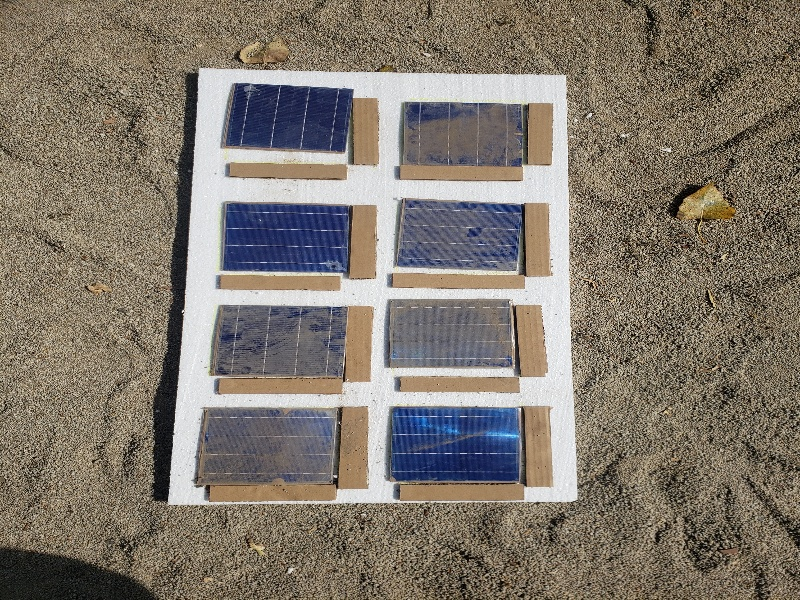clean: (390, 410, 524, 484), (219, 84, 355, 154), (218, 204, 348, 276)
dirty: (194, 409, 342, 490), (210, 304, 345, 376), (401, 199, 524, 272), (385, 299, 517, 367), (408, 101, 522, 165)
